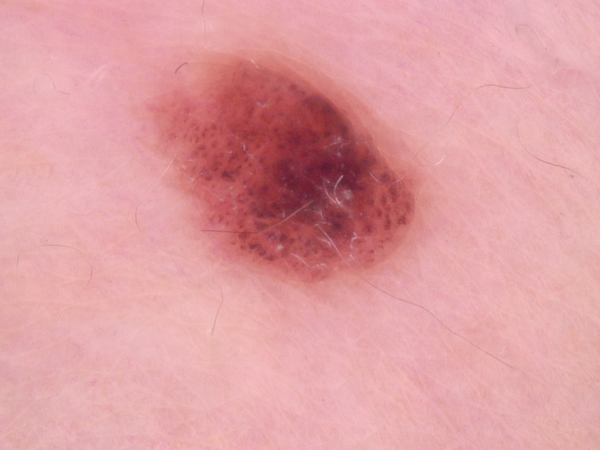Detected Lesion: (140, 44, 420, 298)
